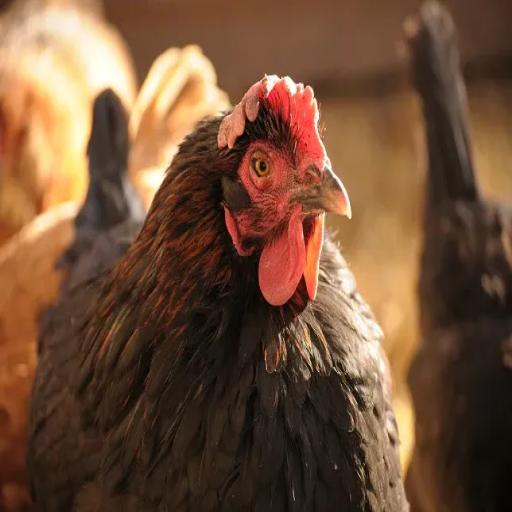disease: (242, 135, 292, 215)
